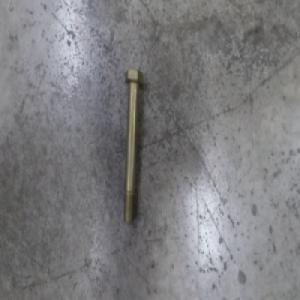Bolt: (123, 64, 145, 230)
